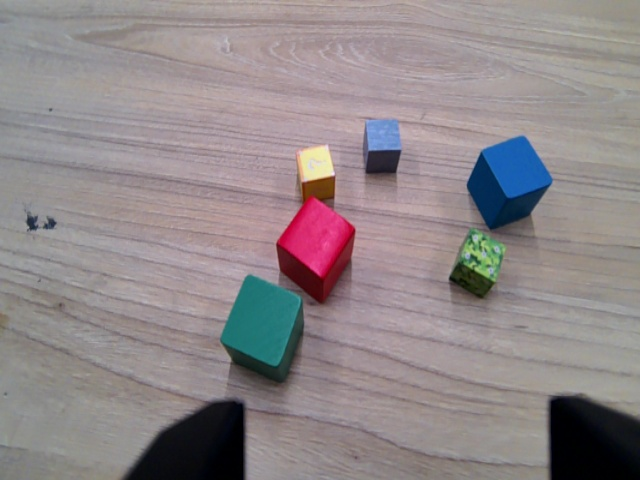grass: (447, 226, 506, 298)
lucky: (286, 140, 342, 206)
stone: (359, 113, 404, 177)
